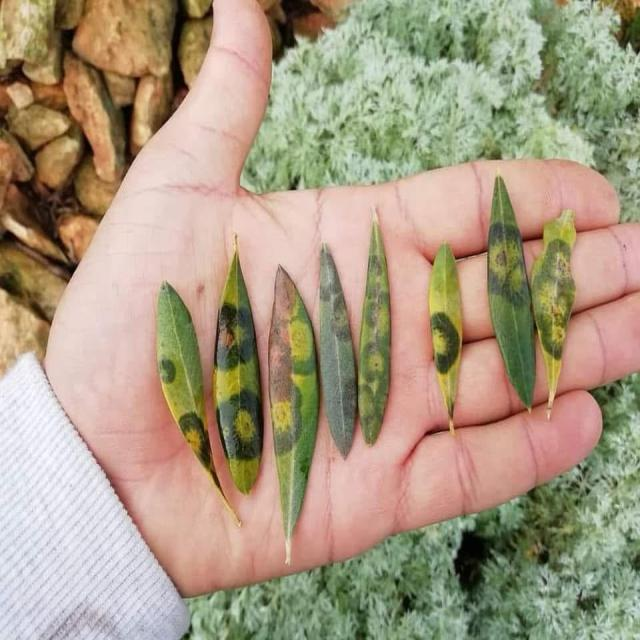Peacock Eye: (157, 282, 241, 526), (268, 268, 319, 564), (213, 251, 263, 493), (487, 175, 535, 411), (531, 212, 575, 411), (318, 244, 357, 458), (358, 212, 391, 445), (428, 244, 462, 434)
